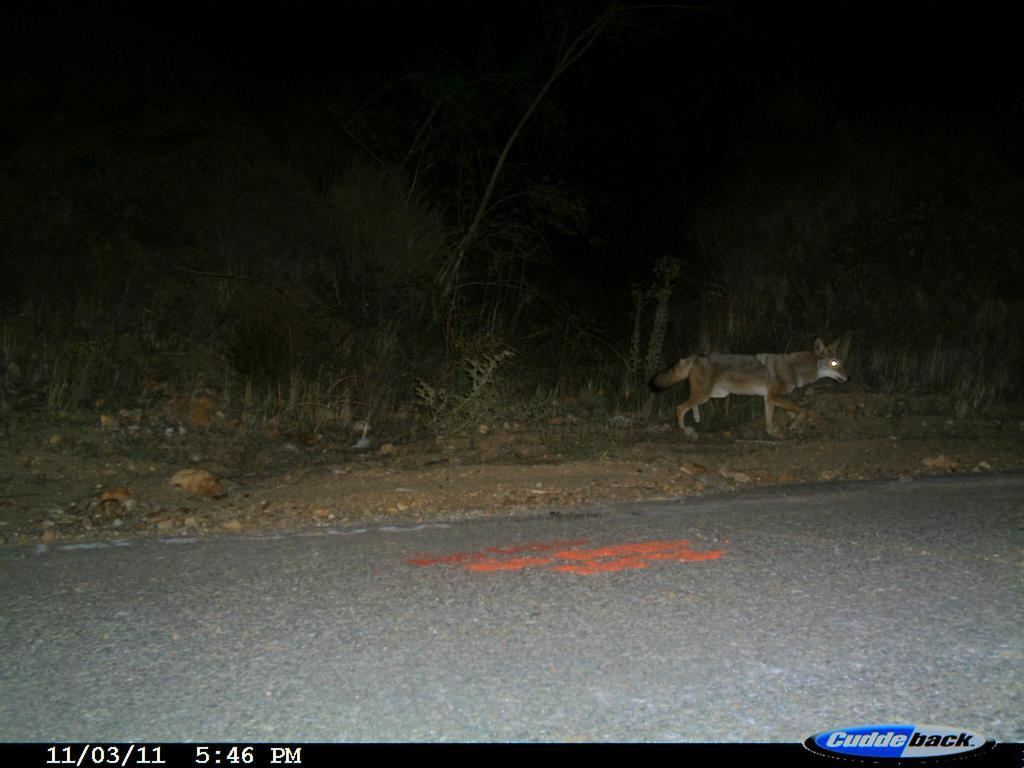coyote: (661, 326, 852, 456)
